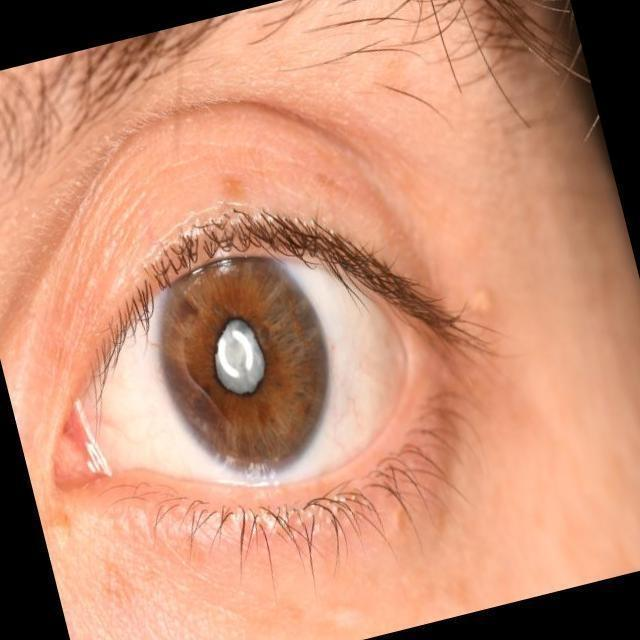Cataract: (137, 271, 324, 467)
